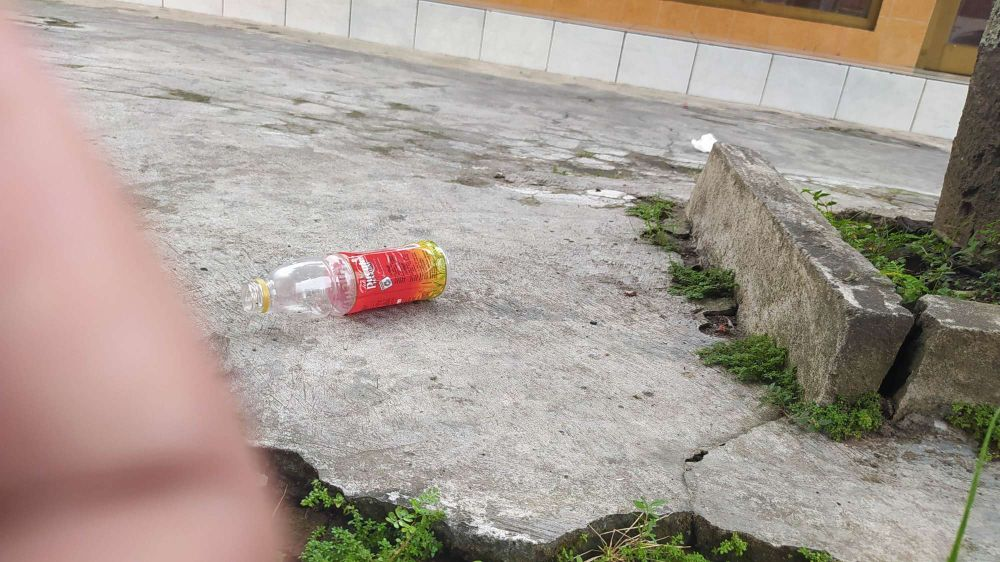botol: (219, 240, 467, 327)
